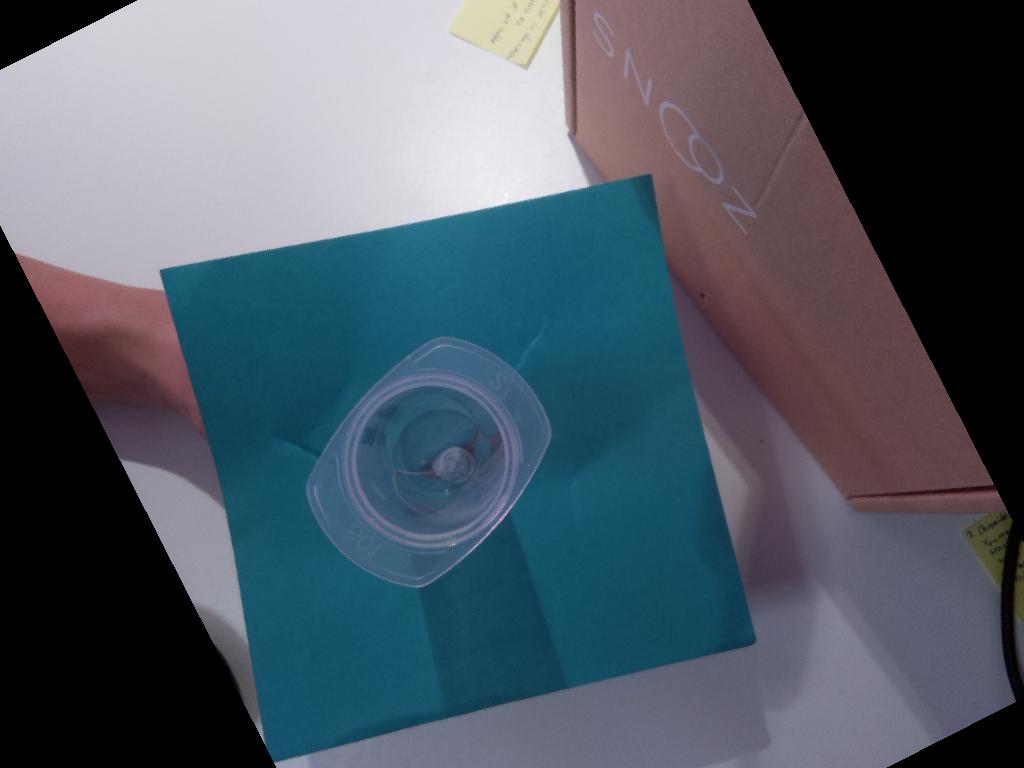clean: (303, 336, 551, 592)
